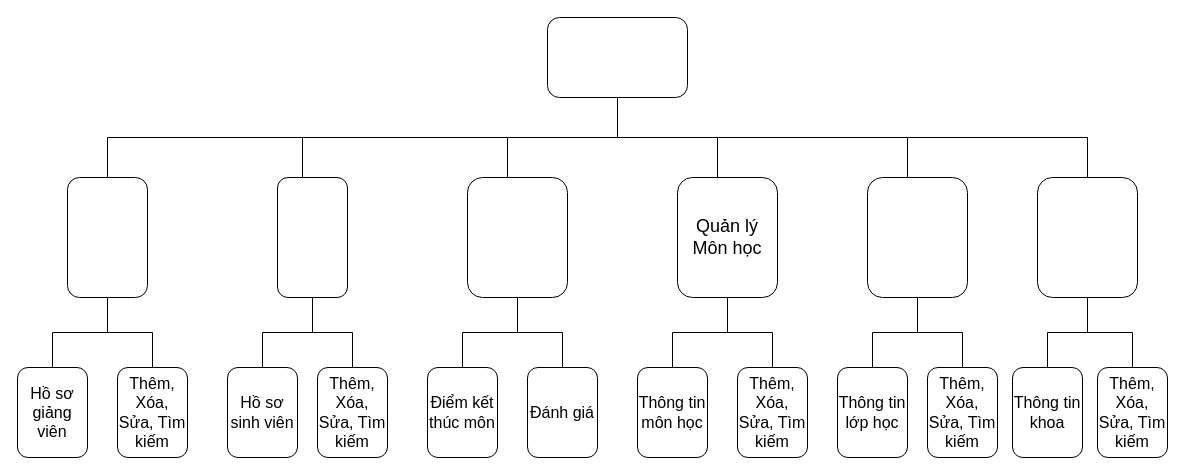
Some shapes in this 1185 by 475 pixel diagram are drawn without their labels. Here are the shapes that lost their labels. From the top down, the centre of each, then its label:
At (617,57): "Phòng đào tạo".
At (107,237): "Giảng viên".
At (312,237): "Sinh viên".
At (517,237): "Quản lý Điểm sinh viên".
At (917,237): "Quản lý Lớp học".
At (1087,237): "Quản lý Khoa".
